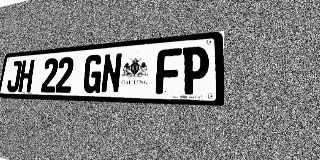2: (55, 56, 74, 93), (41, 58, 59, 93)
F: (155, 48, 182, 94)
G: (82, 54, 103, 93)
H: (18, 60, 35, 92)
J: (6, 61, 22, 92)
N: (100, 53, 123, 93)
P: (181, 46, 209, 95)
